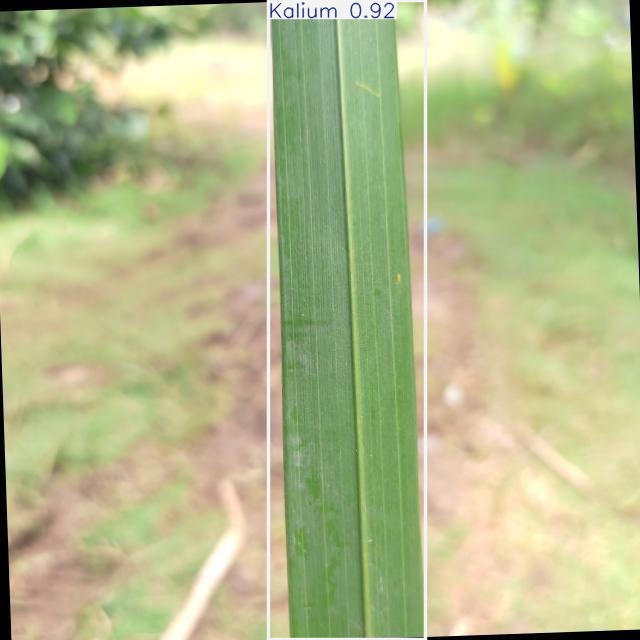Kalium: (268, 1, 426, 640)
